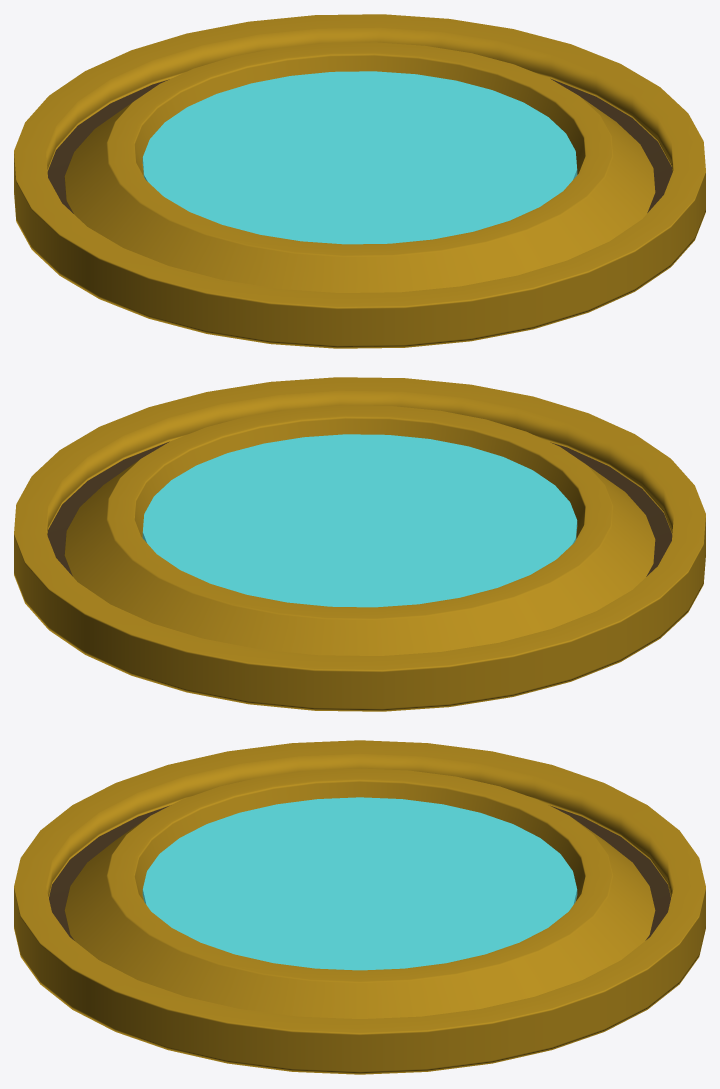
The model's file is checkpoint biru.fbx.
The picture shows the model from 3 angles, top to bottom: view 1: azimuth 30°, elevation 25°; view 2: azimuth 150°, elevation 25°; view 3: azimuth 270°, elevation 25°; orthographic projection.
Parts seen in each view (by area): view 1: Cylinder, Cylinder.001, Cylinder.002; view 2: Cylinder, Cylinder.001, Cylinder.002; view 3: Cylinder, Cylinder.001, Cylinder.002.
Part boxes in pixels (x1,y1,x2,y2): Cylinder: (14, 14, 705, 348); Cylinder.001: (142, 71, 577, 244); Cylinder.002: (64, 42, 655, 292); Cylinder: (14, 377, 705, 711); Cylinder.001: (142, 434, 577, 607); Cylinder.002: (64, 405, 655, 655); Cylinder: (14, 740, 705, 1074); Cylinder.001: (142, 797, 577, 970); Cylinder.002: (64, 768, 655, 1018).
Bounding box in the file's own units: 332 × 28.35 × 332.
